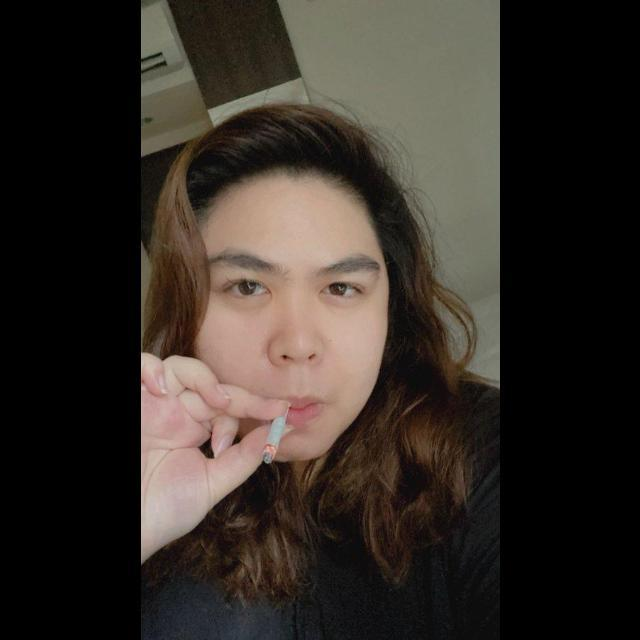rokok: (256, 402, 298, 472)
